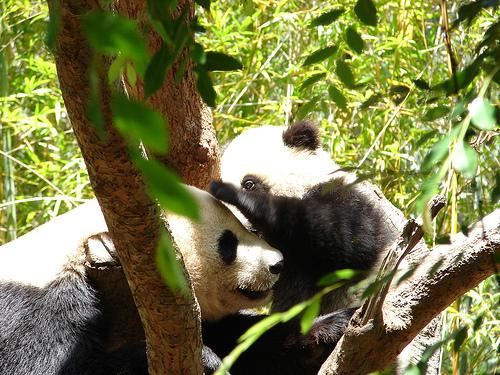panda: (166, 120, 413, 369), (0, 199, 147, 374), (233, 285, 362, 373)
